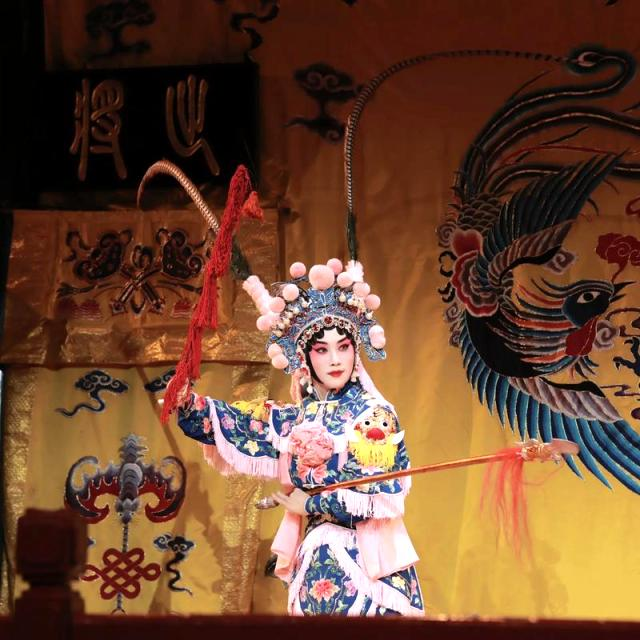Reeves-s Pheasant: (345, 55, 431, 259), (138, 160, 218, 232), (434, 50, 522, 57)
